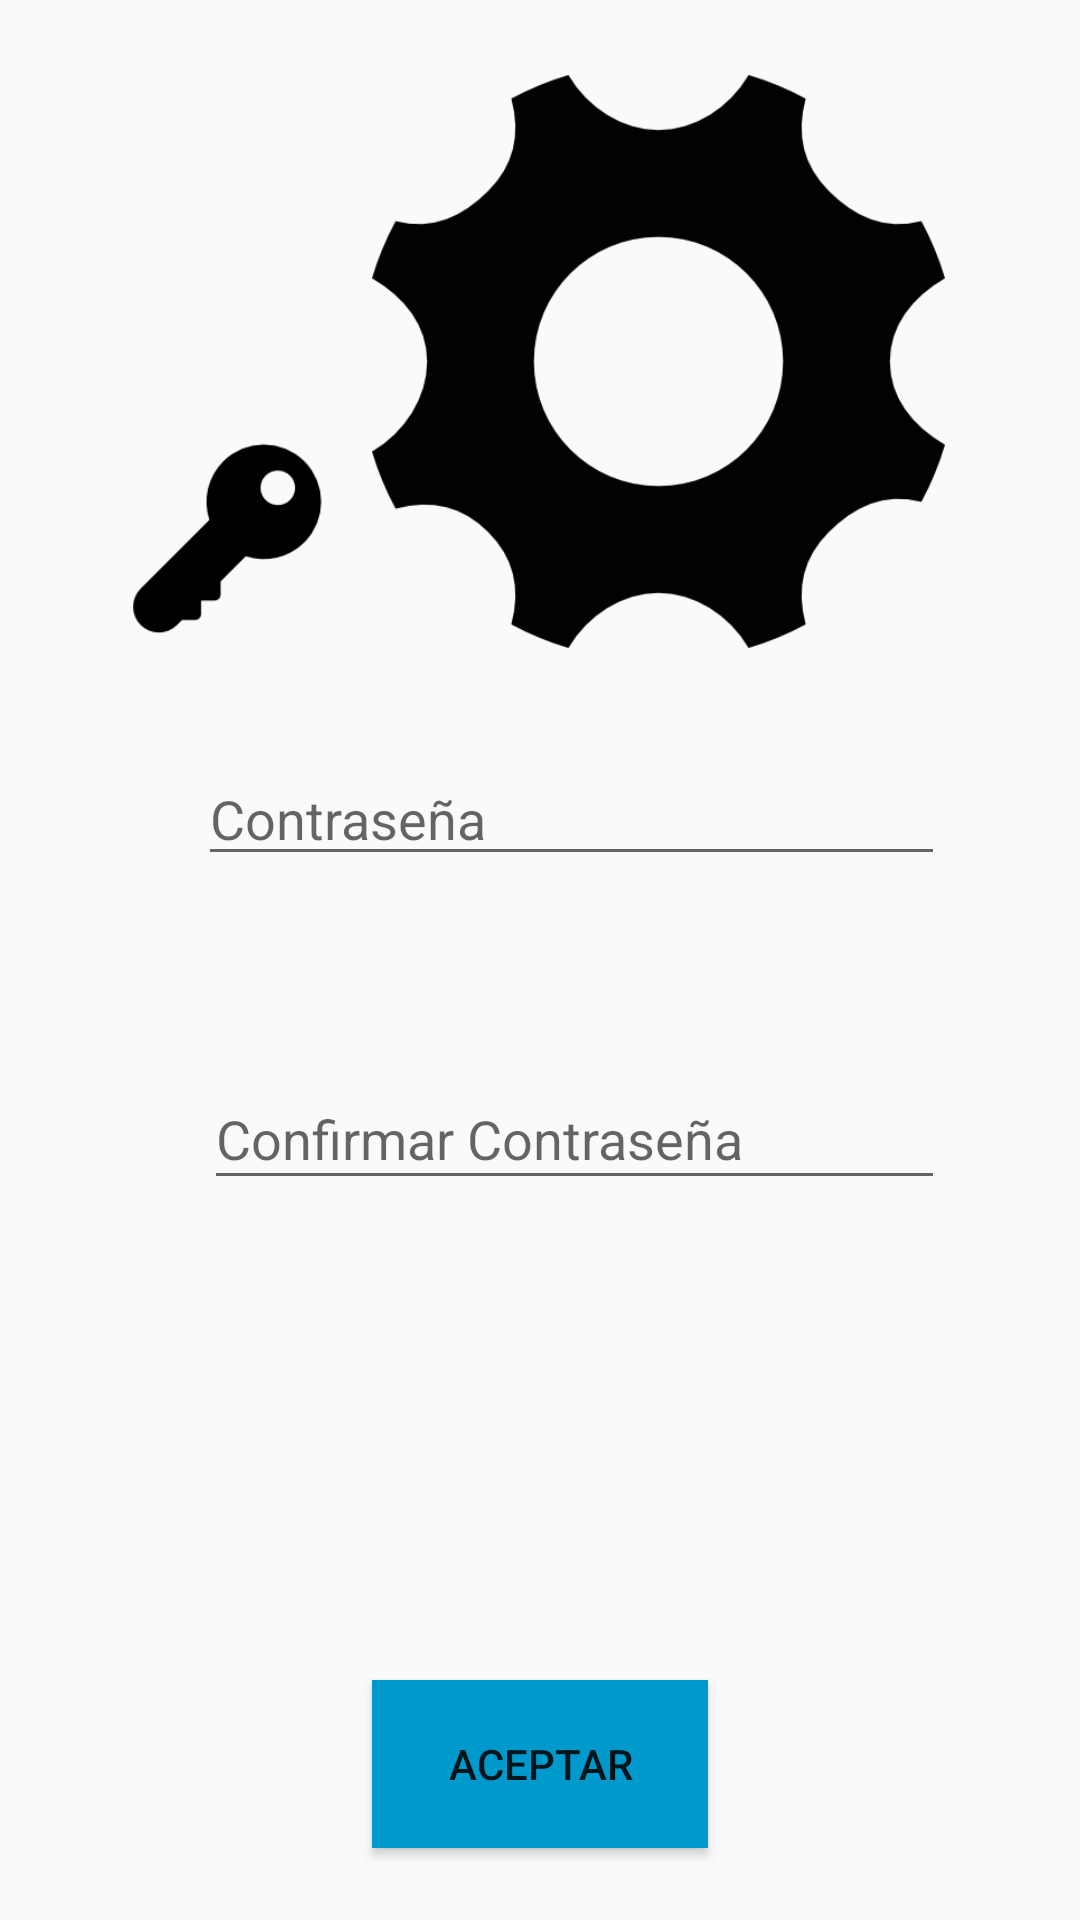

Icon click points for this 1080 x 1920 phone screenshot, format point (x, y):
llave: point (227, 538)
